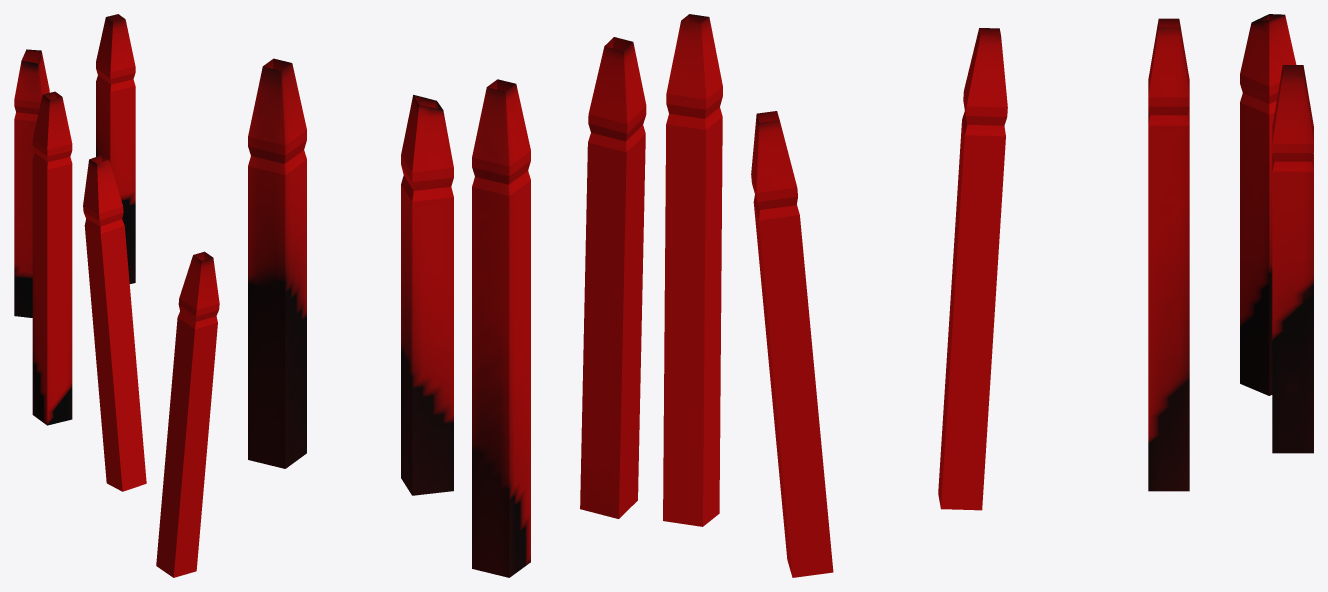
Rendered from Pillars.obj.
The picture shows the model from 3 angles, left to right: view 1: azimuth 30°, elevation 25°; view 2: azimuth 150°, elevation 25°; view 3: azimuth 270°, elevation 25°; orthographic projection. The views are drawn at different scales.
Visible parts, largest first — view 1: Pillars; view 2: Pillars; view 3: Pillars.
Boxes of the visible parts, bbox=[...] form: Pillars: bbox=[14, 14, 219, 577]; Pillars: bbox=[248, 14, 722, 577]; Pillars: bbox=[751, 14, 1313, 577].
Size of the model in its own units: 23.29 by 61.25 by 54.38.
